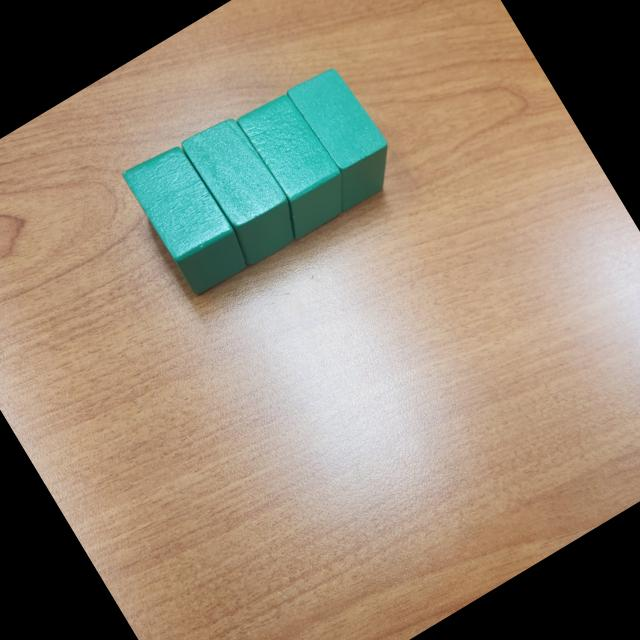green: (117, 137, 255, 301), (176, 109, 310, 269), (272, 59, 407, 215), (226, 85, 360, 241)
